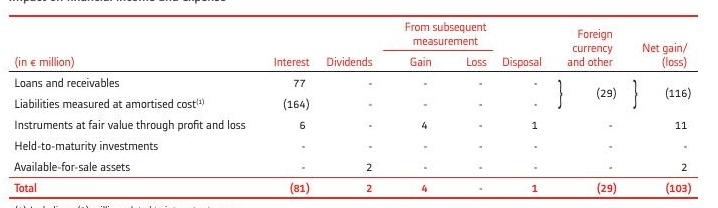table: (0, 0, 718, 208)
